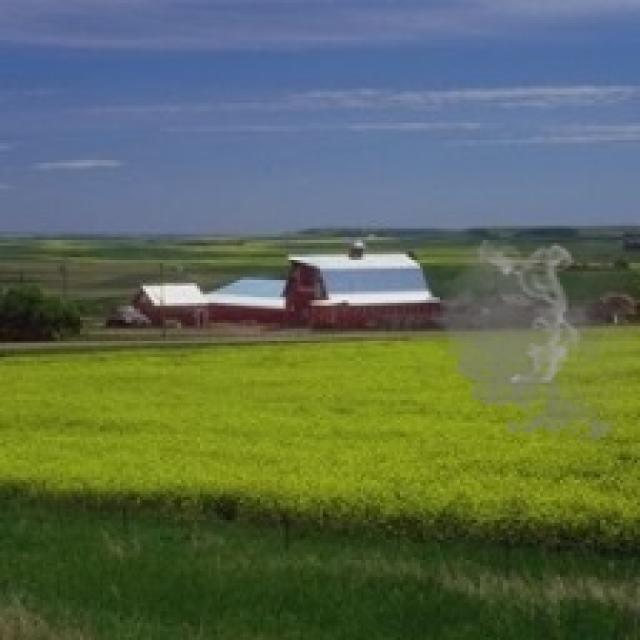smoke: (420, 237, 637, 452)
